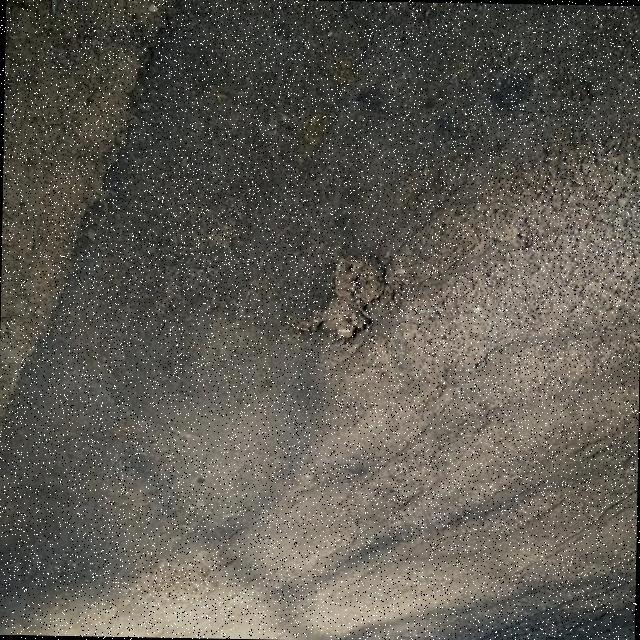Pothole: (299, 256, 385, 338)
